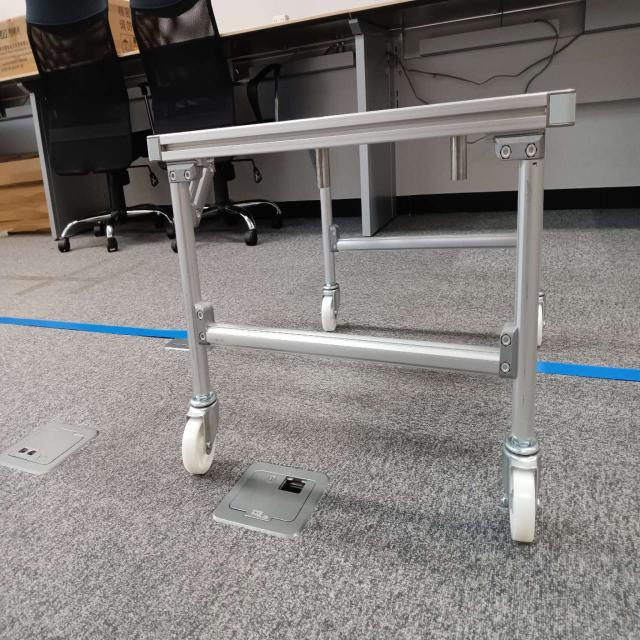side: (169, 94, 534, 383)
